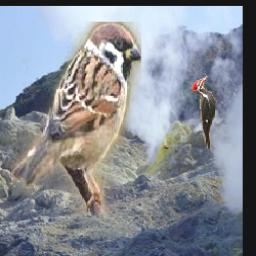Sparrow: (12, 22, 142, 215)
Woodpecker: (190, 74, 215, 149)
